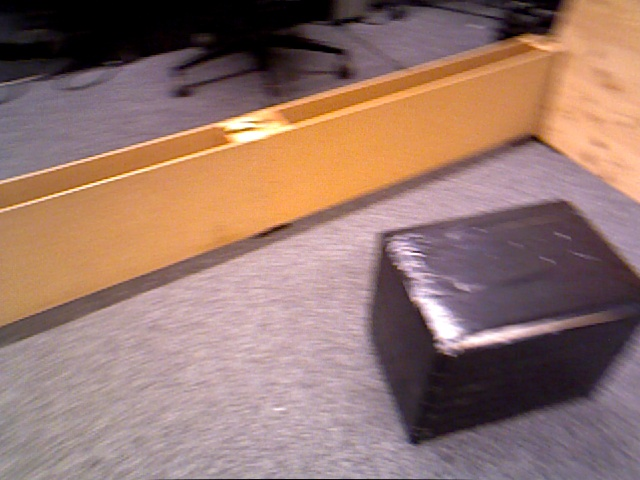push: (367, 200, 640, 444)
